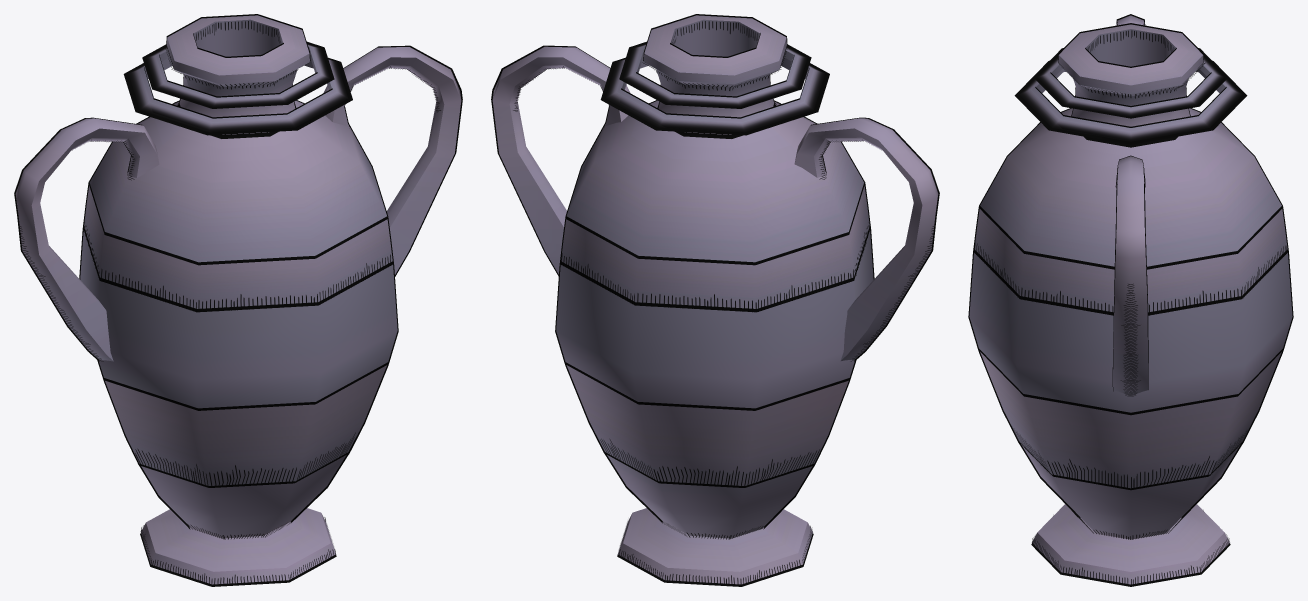
The model's file is pm-vase-mid.glb.
3 renders of one model, left to right at view 1: azimuth 30°, elevation 25°; view 2: azimuth 150°, elevation 25°; view 3: azimuth 270°, elevation 25°, orthographic. The views are drawn at different scales.
Visible parts, largest first — view 1: Vase_Mid; view 2: Vase_Mid; view 3: Vase_Mid.
Part boxes in pixels (left/top/right/bottom): Vase_Mid: left=14, top=14, right=462, bottom=586; Vase_Mid: left=491, top=14, right=939, bottom=586; Vase_Mid: left=968, top=14, right=1293, bottom=586.
Bounding box in the file's own units: 1.52 × 1.66 × 0.982.
3 materials, 2 textured.
